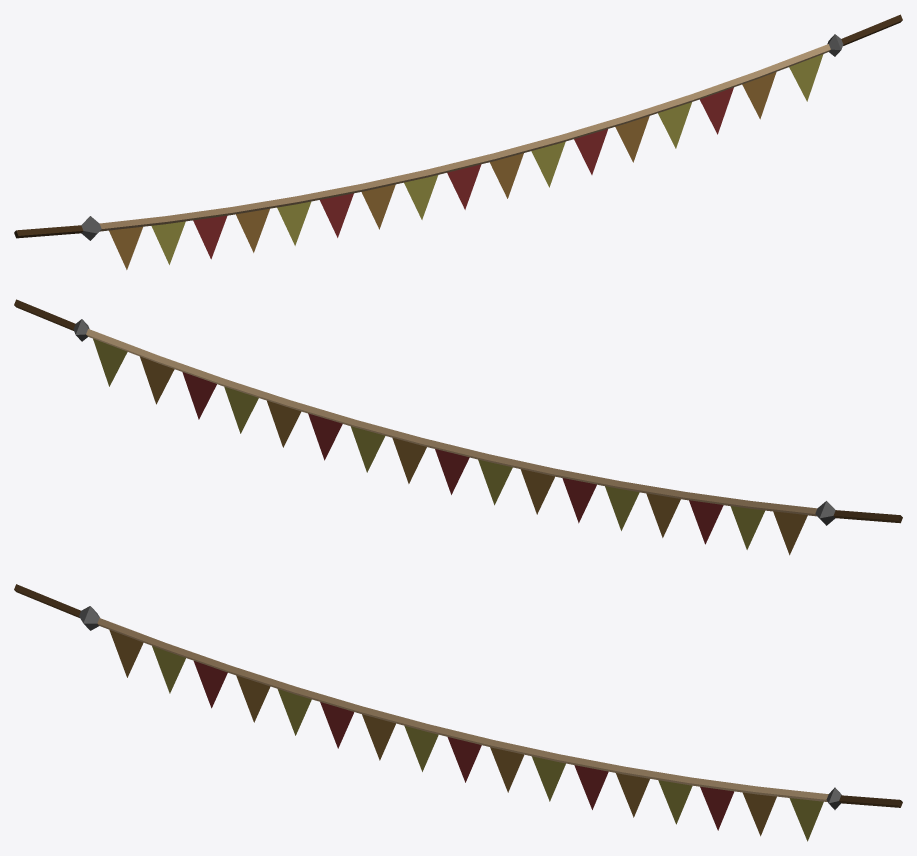
Rendered from ZLP_Build_F_16.FBX.
3 renders of one model, top to bottom at view 1: azimuth 30°, elevation 25°; view 2: azimuth 150°, elevation 25°; view 3: azimuth 330°, elevation 25°, orthographic.
Parts seen in each view (by area): view 1: ZLP_Build_F_16; view 2: ZLP_Build_F_16; view 3: ZLP_Build_F_16.
Part boxes in pixels (left/top/right/bottom): ZLP_Build_F_16: left=14, top=14, right=902, bottom=269; ZLP_Build_F_16: left=14, top=299, right=902, bottom=555; ZLP_Build_F_16: left=14, top=584, right=902, bottom=841.
Bounding box in the file's own units: 844 × 81.75 × 23.09.
